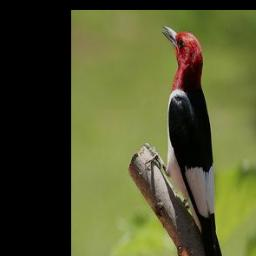Woodpecker: (157, 21, 226, 256)
